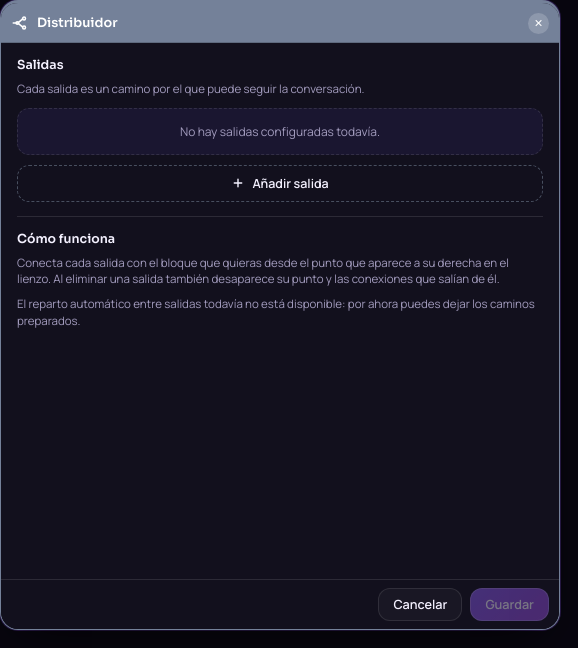
Scenario: añadir salidas › la primera salida aparece en el editor y el estado vacío desaparece
The image size is (578, 648).
Click the button "Añadir salida".
click(280, 183)  # box [17,165,543,202]
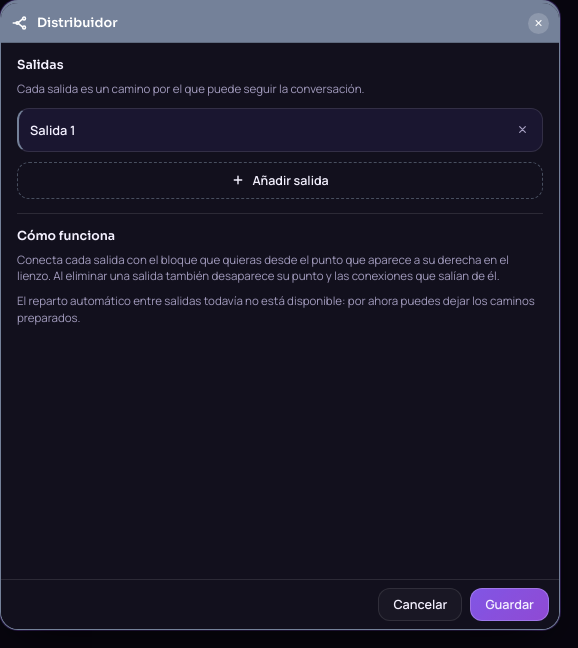
expect the text "No hay salidas configuradas todavía." is gone: met
